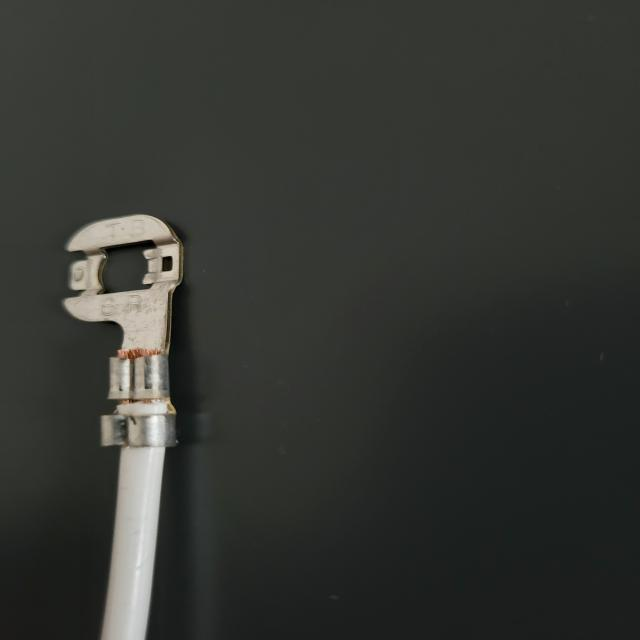good: (2, 5, 634, 640)
